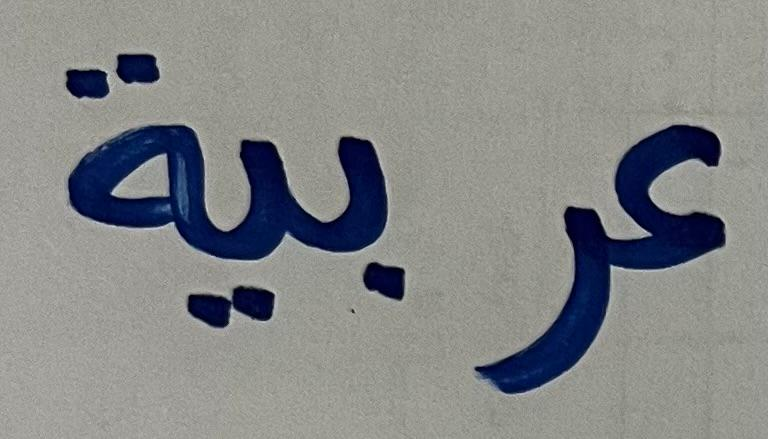ain: (613, 79, 733, 294)
beh: (295, 87, 430, 352)
reh: (461, 174, 611, 424)
teh_marbota: (43, 45, 202, 281)
yeh: (205, 106, 294, 371)
